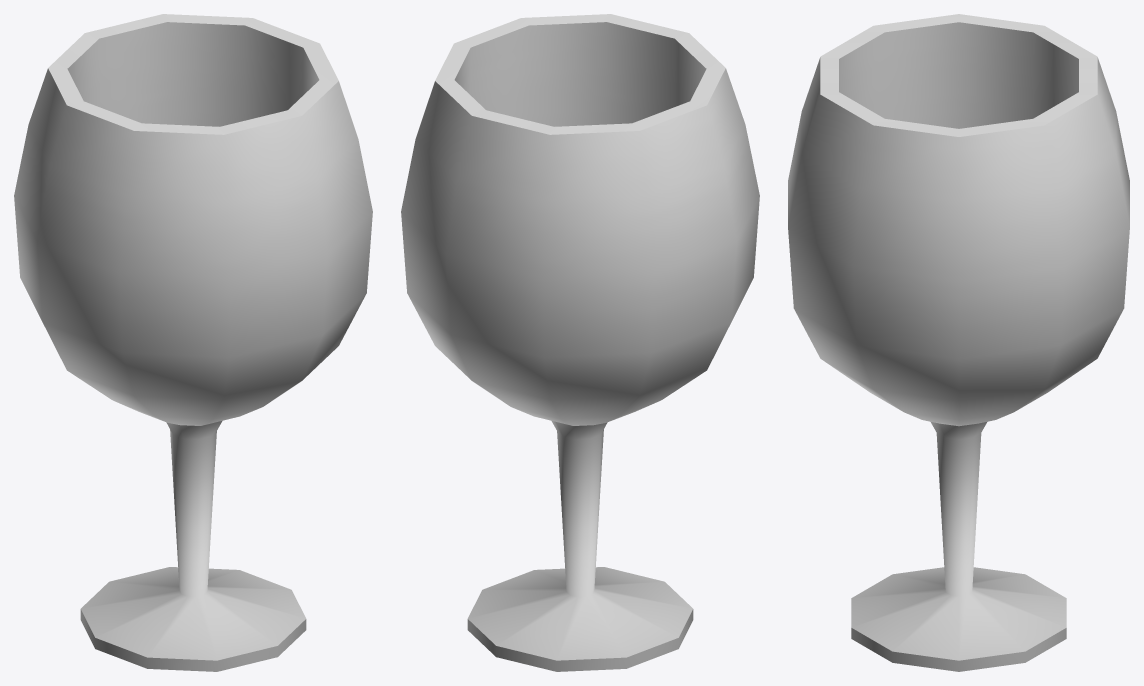
Rendered from WineGlass.fbx.
The picture shows the model from 3 angles, left to right: view 1: azimuth 30°, elevation 25°; view 2: azimuth 150°, elevation 25°; view 3: azimuth 270°, elevation 25°; orthographic projection.
Visible parts, largest first — view 1: WineGlass; view 2: WineGlass; view 3: WineGlass.
Boxes of the visible parts, x1,y1,x2,y2 form: WineGlass: (14, 14, 372, 671); WineGlass: (401, 14, 759, 671); WineGlass: (788, 14, 1129, 671).
Bounding box in the file's own units: 2.47 × 4.15 × 2.35.
